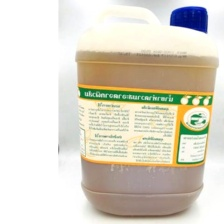cleaning_solution: (76, 2, 219, 219)
